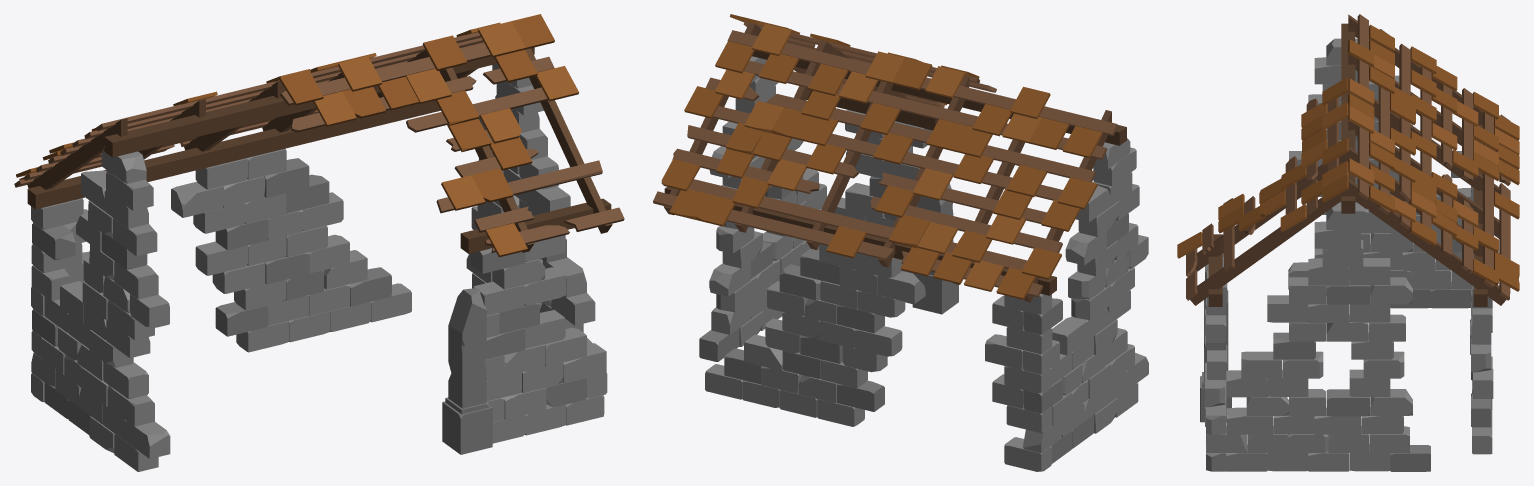
The model's file is Bridge_03.fbx.
3 renders of one model, left to right at view 1: azimuth 30°, elevation 25°; view 2: azimuth 150°, elevation 25°; view 3: azimuth 270°, elevation 25°, orthographic. The views are drawn at different scales.
Visible parts, largest first — view 1: House_03_LOD0; view 2: House_03_LOD0; view 3: House_03_LOD0.
Boxes of the visible parts, <box> form: House_03_LOD0: <box>14,14,624,471</box>; House_03_LOD0: <box>653,14,1148,471</box>; House_03_LOD0: <box>1177,14,1519,471</box>.
Size of what is drawn, in the model's own units: 6.88 by 5.06 by 5.39.
